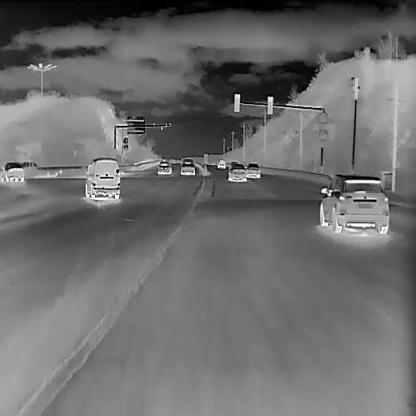car: (319, 172, 390, 235), (85, 157, 121, 200), (1, 161, 24, 182), (227, 163, 246, 182), (180, 158, 195, 176), (158, 156, 173, 174), (247, 162, 260, 178), (217, 158, 226, 168)
